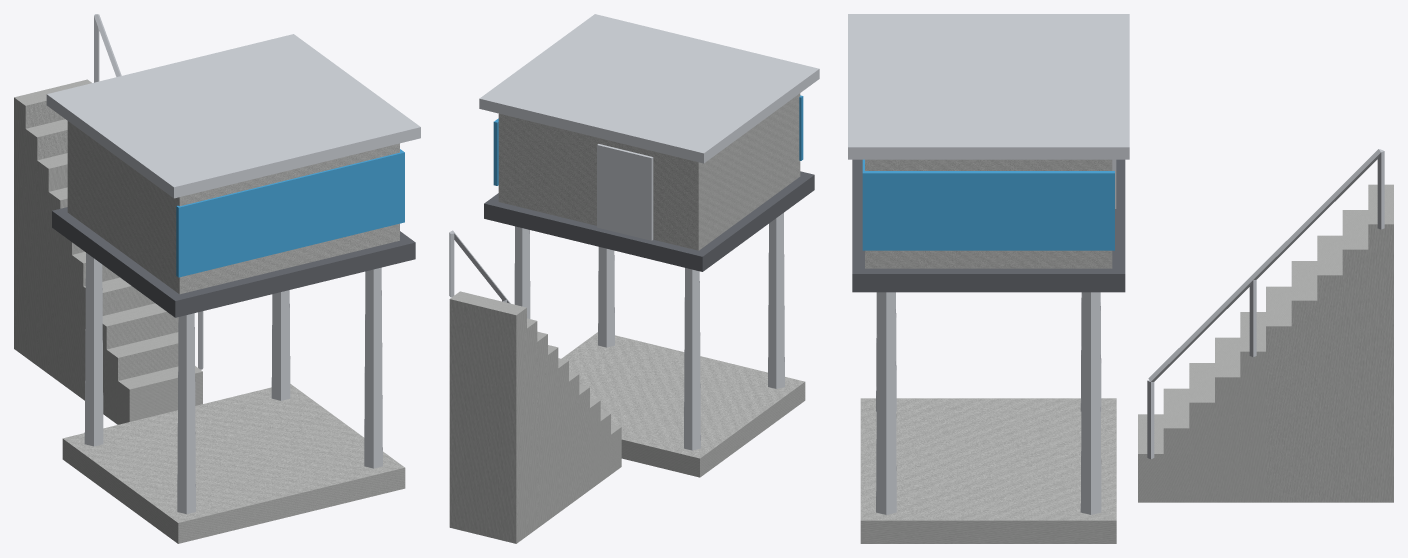
The model's file is velodrome-and-track-cycling-judges-tower-c2f9fedd__37991.glb.
3 views of the same model, side by side, from view 1: azimuth 30°, elevation 25°; view 2: azimuth 150°, elevation 25°; view 3: azimuth 270°, elevation 25° (orthographic). The views are drawn at different scales.
Parts seen in each view (by area): view 1: judges-tower-apron, judges-tower-steel, judges-tower-azure, judges-tower-charcoal; view 2: judges-tower-apron, judges-tower-steel, judges-tower-charcoal, door-tower, judges-tower-azure; view 3: judges-tower-apron, judges-tower-steel, judges-tower-azure, judges-tower-charcoal.
Part boxes in pixels (left/top/right/bottom): judges-tower-apron: left=14, top=79, right=405, bottom=543; judges-tower-steel: left=46, top=14, right=420, bottom=514; judges-tower-azure: left=176, top=149, right=404, bottom=277; judges-tower-charcoal: left=52, top=207, right=415, bottom=317; judges-tower-apron: left=449, top=93, right=805, bottom=543; judges-tower-steel: left=449, top=14, right=819, bottom=450; judges-tower-charcoal: left=484, top=171, right=814, bottom=271; door-tower: left=597, top=144, right=653, bottom=240; judges-tower-azure: left=493, top=95, right=803, bottom=185; judges-tower-apron: left=860, top=159, right=1393, bottom=543; judges-tower-steel: left=848, top=14, right=1384, bottom=514; judges-tower-azure: left=862, top=159, right=1114, bottom=250; judges-tower-charcoal: left=852, top=159, right=1125, bottom=292.
Bounding box in the file's own units: 3.7 × 5.2 × 6.4.
Materials: 4 (1 with a texture image).
